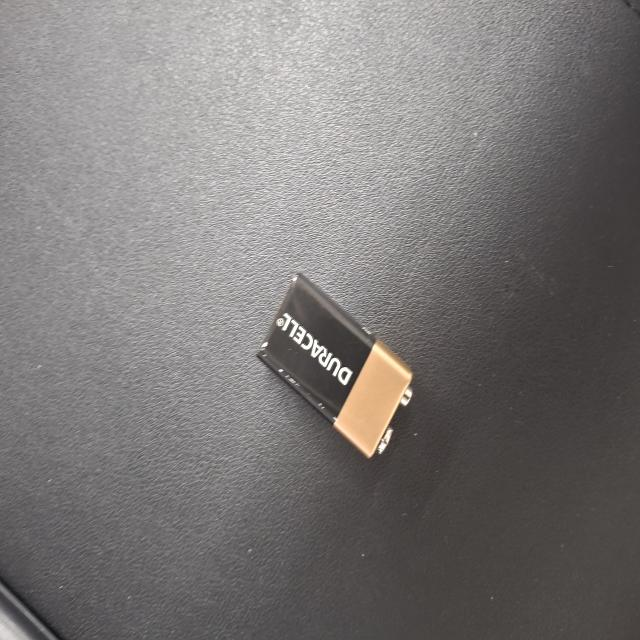9V: (137, 344, 274, 550)
